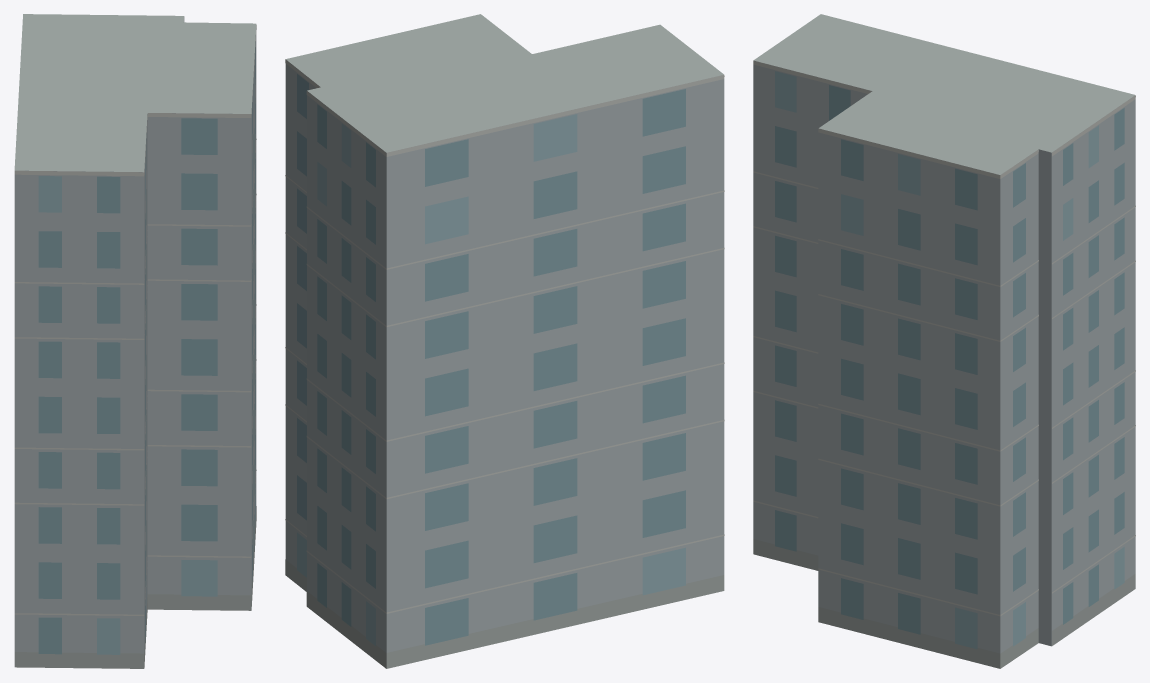
Rendered from survey-upis-32595768.glb.
The picture shows the model from 3 angles, left to right: view 1: azimuth 30°, elevation 25°; view 2: azimuth 150°, elevation 25°; view 3: azimuth 270°, elevation 25°; orthographic projection. The views are drawn at different scales.
Parts seen in each view (by area): view 1: survey-upis-32595768.tmp; view 2: survey-upis-32595768.tmp; view 3: survey-upis-32595768.tmp.
Boxes of the visible parts, x1,y1,x2,y2 form: survey-upis-32595768.tmp: (14,14,256,668); survey-upis-32595768.tmp: (285,14,724,668); survey-upis-32595768.tmp: (753,14,1135,668).
Size of the model in its own units: 20.67 by 29.5 by 20.73.
